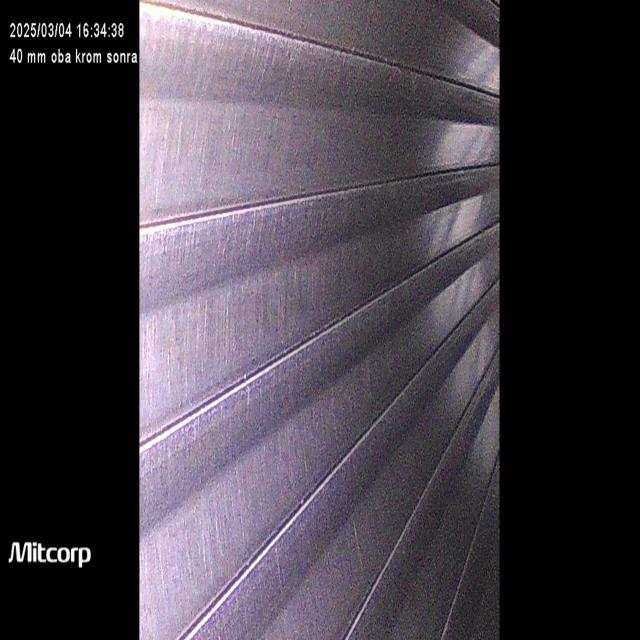hata_8.1: (304, 245, 354, 399), (228, 531, 306, 614), (144, 319, 204, 426), (152, 104, 204, 214), (219, 352, 290, 418), (350, 511, 398, 596)
